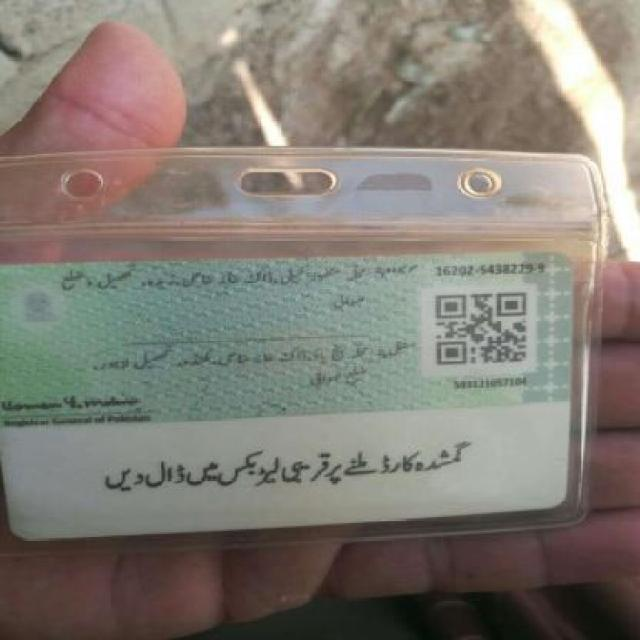Back: (5, 254, 577, 526)
